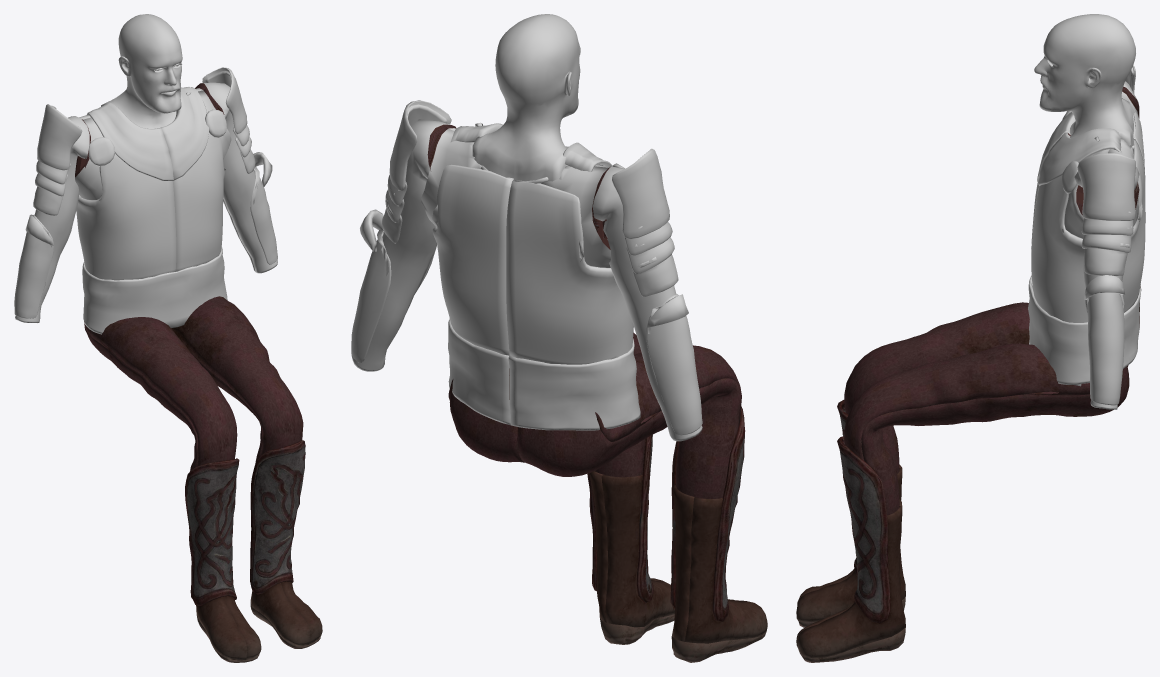
The model's file is mamluk2.fbx.
3 renders of one model, left to right at view 1: azimuth 30°, elevation 25°; view 2: azimuth 150°, elevation 25°; view 3: azimuth 270°, elevation 25°, orthographic. The views are drawn at different scales.
Parts seen in each view (by area): view 1: defaultMaterial.004, Object_17; view 2: defaultMaterial.004, Object_17; view 3: defaultMaterial.004, Object_17.
Part boxes in pixels (x1,y1,x2,y2): defaultMaterial.004: (14, 67, 322, 662); Object_17: (101, 14, 182, 128); defaultMaterial.004: (351, 100, 767, 662); Object_17: (472, 14, 580, 181); defaultMaterial.004: (796, 65, 1145, 662); Object_17: (1034, 14, 1135, 147).
Bounding box in the file's own units: 220 × 440 × 223.
